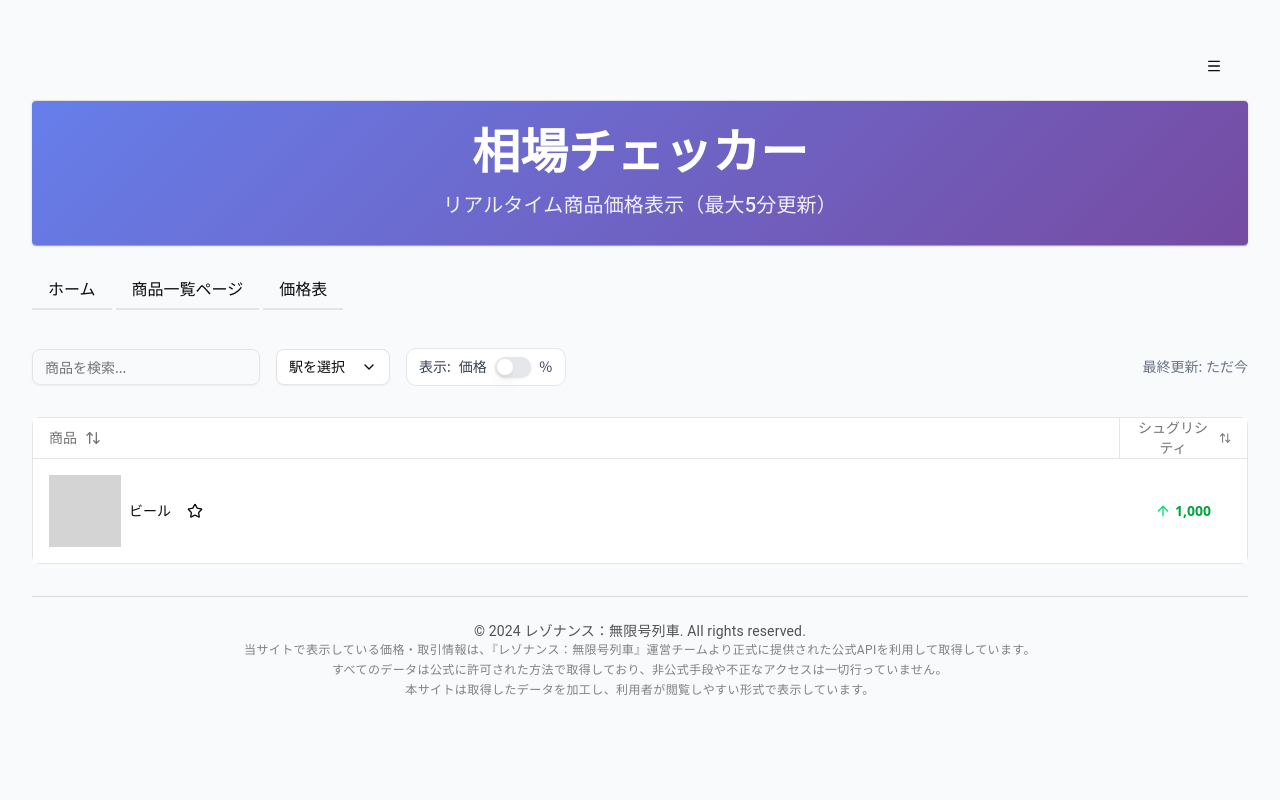
Test: PricesPage › switches to percent display
expect the text "ビール" is shown: met, box [129,501,171,521]
expect the text "1,000" is shown: met, box [1175,501,1211,521]
Click the switch named "価格/％表示切替".
click(513, 367)  # box [495,357,531,377]
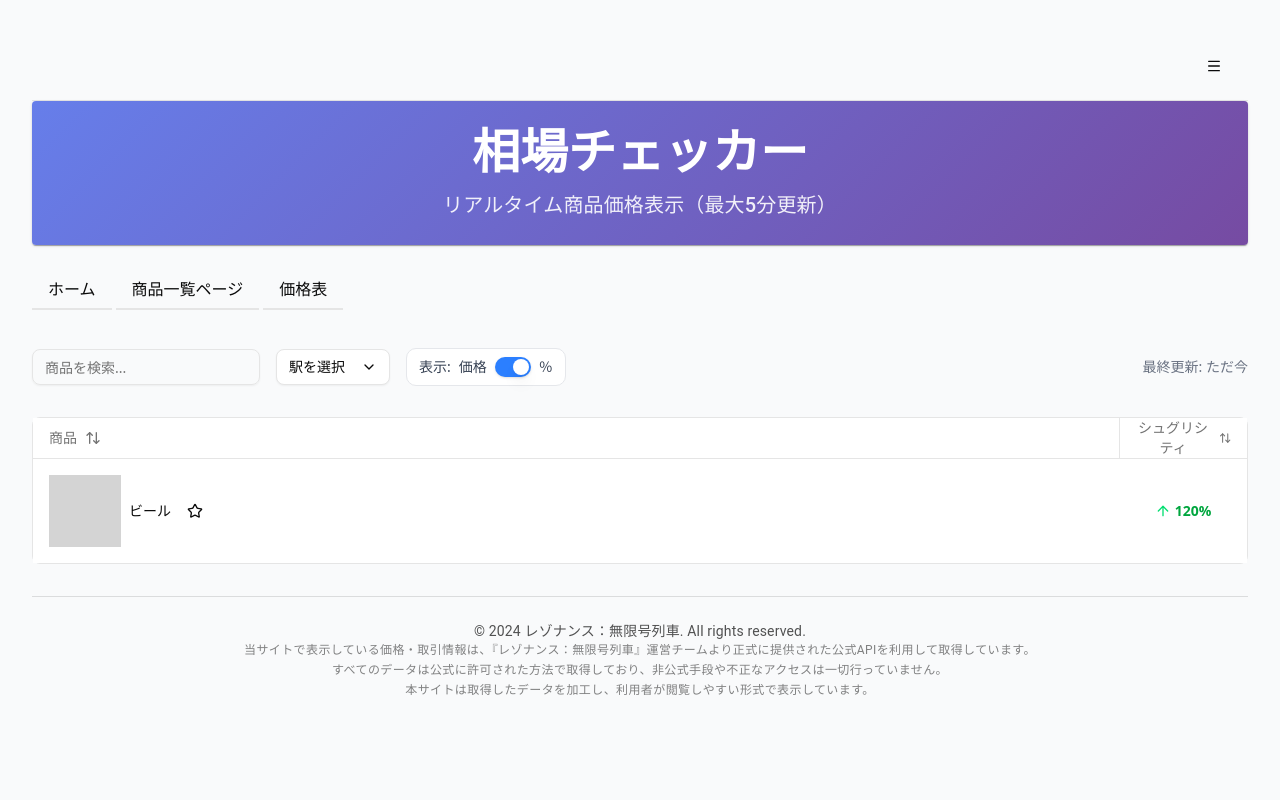
expect the text "120%" is shown: met, box [1175,501,1211,521]
